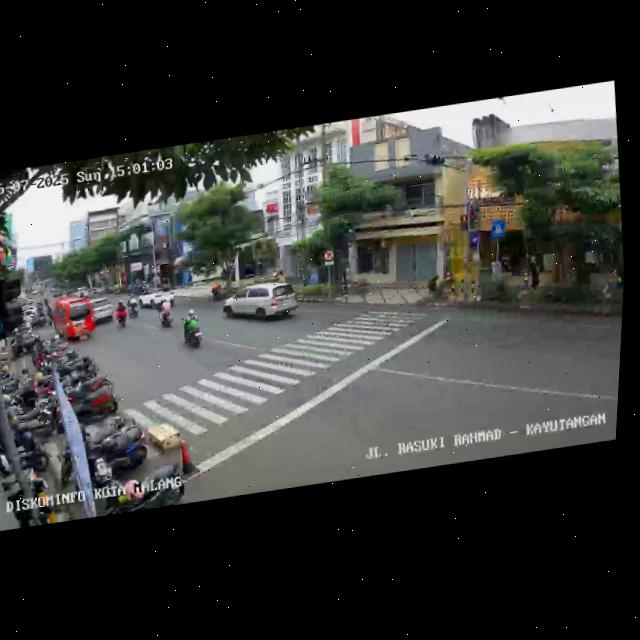car: (221, 278, 303, 330), (48, 293, 99, 345), (138, 285, 178, 311), (87, 295, 117, 325)
motorcycle: (178, 307, 206, 351), (156, 296, 176, 330), (113, 300, 130, 328), (125, 295, 141, 322)
